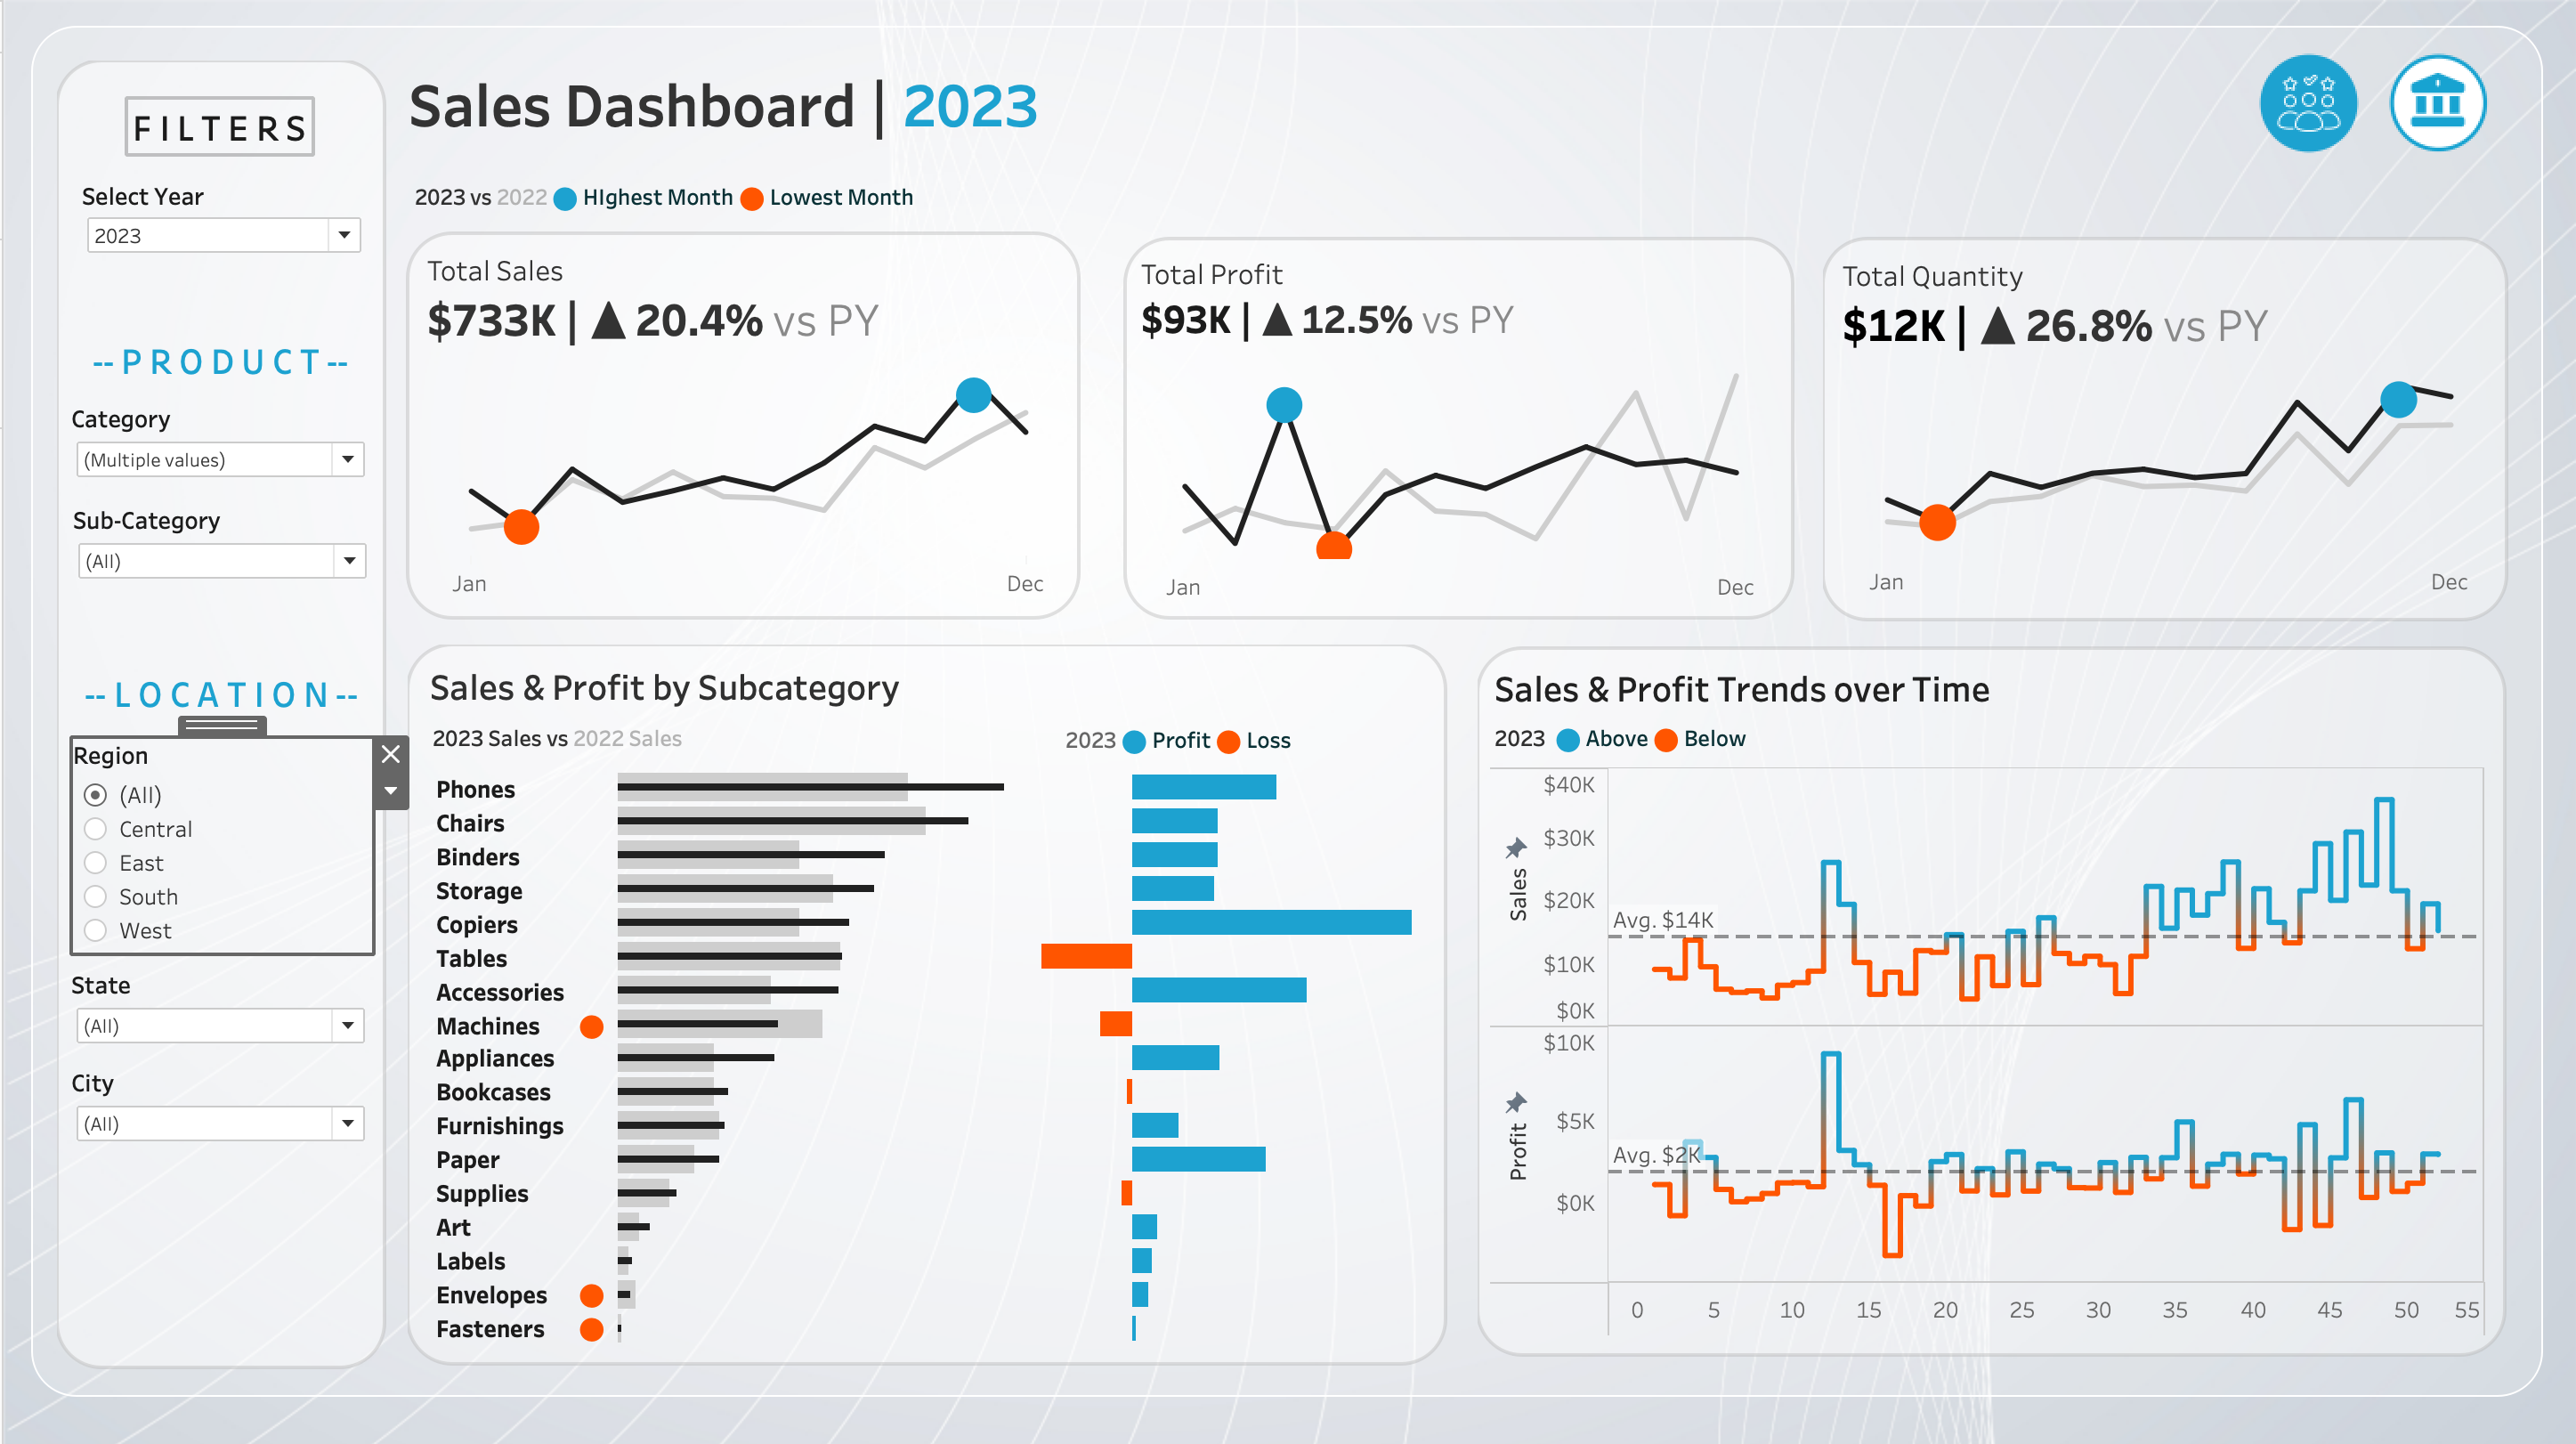

What the dashboard file says about the page in this screenshot:
{"tool":"tableau","page":{"name":"Sales Dashboard","canvas":[1300,800],"ordinal":2},"visuals":[{"type":"image","param":"/Users/abhishek/Downloads/ChatGPT Image May 23, 2026, 11_57_51 AM.png","box":[221,26,76,64]},{"type":"text","box":[297,26,966,64]},{"type":"worksheet","title":"background_filter","mark":"Automatic","box":[26,30,193,745]},{"type":"text","box":[70,56,103,30]},{"type":"worksheet","title":"Legend KPI","mark":"Automatic","box":[227,96,397,29]},{"type":"parameter","param":"[Parameters].[Parameter 1]","box":[44,101,160,44]},{"type":"worksheet","title":"bg_KPI3","mark":"Automatic","box":[216,123,401,237]},{"type":"worksheet","title":"bg_KPI2","mark":"Automatic","box":[617,123,401,237]},{"type":"worksheet","title":"Abhishek Garg KPI Sales","mark":"Line","rows":["Calculation_1075445540645466120"],"cols":["Order Date"],"box":[234,137,368,205]},{"type":"worksheet","title":"KPI Profit","mark":"Line","rows":["Min/Max Sales (copy)_1075445541074272273"],"cols":["Order Date"],"box":[635,139,366,205]},{"type":"text","box":[47,187,150,30]},{"type":"filter","title":"KPI Profit","param":"[federated.07qp0fw10lqoh81cjkq750lq2iyj].[none:Category:nk]","box":[38,226,168,50]},{"type":"filter","title":"KPI Profit","param":"[federated.07qp0fw10lqoh81cjkq750lq2iyj].[none:Sub-Category:nk]","box":[39,283,168,50]},{"type":"worksheet","title":"background CL","mark":"Automatic","box":[223,358,601,423]},{"type":"text","box":[233,369,572,32]},{"type":"text","box":[43,374,159,30]},{"type":"worksheet","title":"Legend Subcategory","mark":"Automatic","box":[233,401,357,28]},{"type":"text","box":[590,401,215,28]},{"type":"filter","title":"Abhishek Garg KPI Sales","param":"[federated.07qp0fw10lqoh81cjkq750lq2iyj].[none:Region:nk]","box":[39,415,168,120]},{"type":"worksheet","title":"Subcategory Comparision","mark":"Bar","rows":["Sub-Category","Calculation_51228470513692674"],"cols":["CY Sales (copy)_1075445540640153604","Calculation_1075445540639485955","CY Sales (copy)_1075445541073395725"],"box":[233,429,572,330]},{"type":"filter","title":"KPI Profit","param":"[federated.07qp0fw10lqoh81cjkq750lq2iyj].[none:State:nk]","box":[38,544,168,50]},{"type":"filter","title":"KPI Profit","param":"[federated.07qp0fw10lqoh81cjkq750lq2iyj].[none:City:nk]","box":[38,599,168,50]}]}

Visuals, with their boxes on the page's 1300x800 design canvas (x1, y1, x2, y2). These are canvas units, not pixel positions in the 2576x1444 screenshot, which may show the page scaled, cropped or inside an application window:
image: {"x1": 221, "y1": 26, "x2": 297, "y2": 90}
text: {"x1": 297, "y1": 26, "x2": 1263, "y2": 90}
"background_filter" worksheet: {"x1": 26, "y1": 30, "x2": 219, "y2": 775}
text: {"x1": 70, "y1": 56, "x2": 173, "y2": 86}
"Legend KPI" worksheet: {"x1": 227, "y1": 96, "x2": 624, "y2": 125}
parameter: {"x1": 44, "y1": 101, "x2": 204, "y2": 145}
"bg_KPI3" worksheet: {"x1": 216, "y1": 123, "x2": 617, "y2": 360}
"bg_KPI2" worksheet: {"x1": 617, "y1": 123, "x2": 1018, "y2": 360}
"Abhishek Garg KPI Sales" worksheet (Line marks): {"x1": 234, "y1": 137, "x2": 602, "y2": 342}
"KPI Profit" worksheet (Line marks): {"x1": 635, "y1": 139, "x2": 1001, "y2": 344}
text: {"x1": 47, "y1": 187, "x2": 197, "y2": 217}
"KPI Profit" filter: {"x1": 38, "y1": 226, "x2": 206, "y2": 276}
"KPI Profit" filter: {"x1": 39, "y1": 283, "x2": 207, "y2": 333}
"background CL" worksheet: {"x1": 223, "y1": 358, "x2": 824, "y2": 781}
text: {"x1": 233, "y1": 369, "x2": 805, "y2": 401}
text: {"x1": 43, "y1": 374, "x2": 202, "y2": 404}
"Legend Subcategory" worksheet: {"x1": 233, "y1": 401, "x2": 590, "y2": 429}
text: {"x1": 590, "y1": 401, "x2": 805, "y2": 429}
"Abhishek Garg KPI Sales" filter: {"x1": 39, "y1": 415, "x2": 207, "y2": 535}
"Subcategory Comparision" worksheet (Bar marks): {"x1": 233, "y1": 429, "x2": 805, "y2": 759}
"KPI Profit" filter: {"x1": 38, "y1": 544, "x2": 206, "y2": 594}
"KPI Profit" filter: {"x1": 38, "y1": 599, "x2": 206, "y2": 649}
